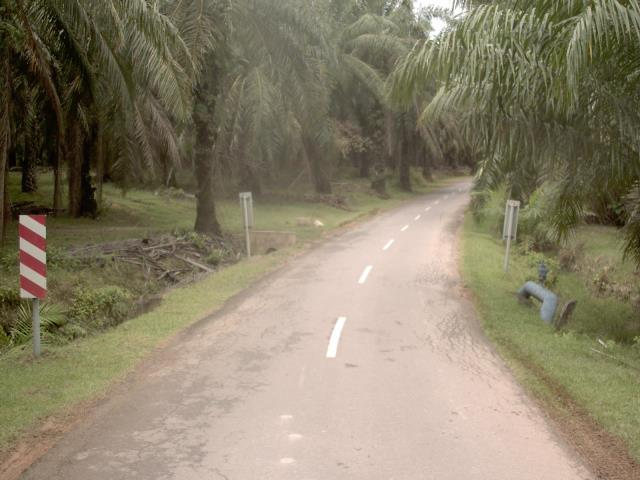traffic_sign: (10, 205, 57, 309)
